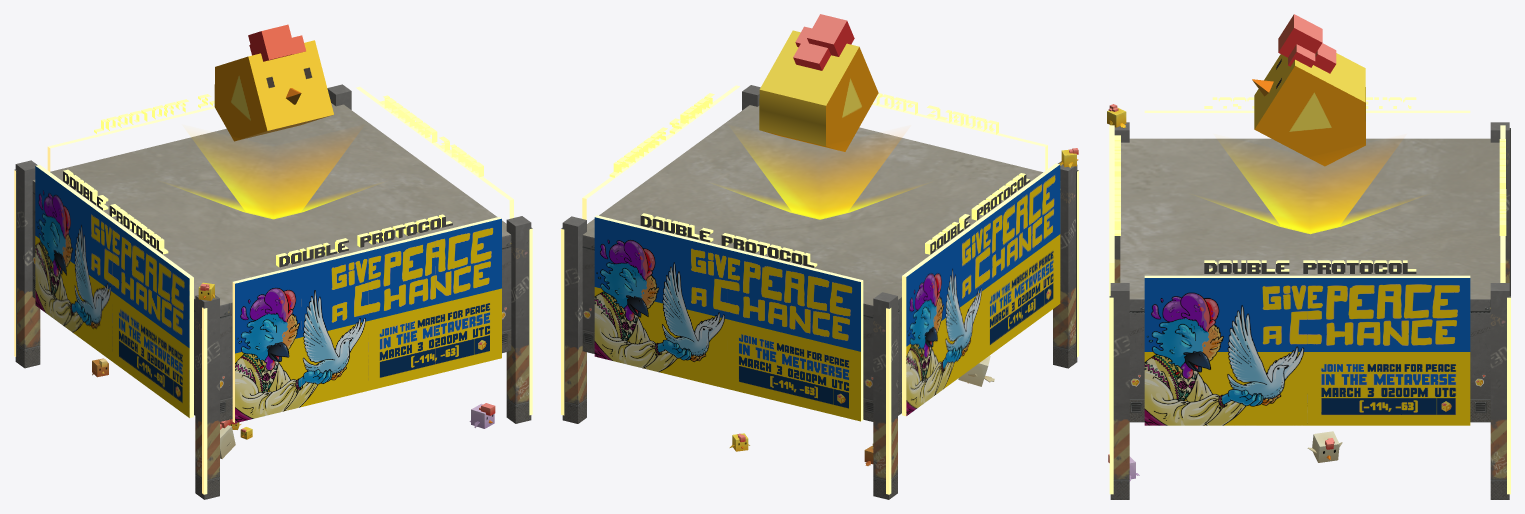
Rendered from billboardV0b.gltf.
3 views of the same model, side by side, from view 1: azimuth 30°, elevation 25°; view 2: azimuth 150°, elevation 25°; view 3: azimuth 270°, elevation 25° (orthographic). The views are drawn at different scales.
Parts seen in each view (by area): view 1: p_structure, p_b1_p9, p_b1_p1, p_body2 (7), p_spot1, p_column5, p_column6, p_column4, p_double1, p_double4, p_b1, p_double2 (+6 smaller); view 2: p_structure, p_b1_p11, p_b1_p1, p_body2 (7), p_spot1, p_column4, p_column3, p_column5, p_double3, p_double4, p_b1, p_double2 (+7 smaller); view 3: p_structure, p_b1_p10, p_body2 (7), p_spot1, p_column3, p_column6, p_double2, p_spot2, p_crest4 (7), p_column4, p_b2, p_b3 (+6 smaller).
Boxes of the visible parts, bbox=[...] form: p_structure: bbox=[32, 103, 511, 421]; p_b1_p9: bbox=[235, 218, 501, 423]; p_b1_p1: bbox=[35, 166, 189, 417]; p_body2 (7): bbox=[214, 40, 333, 141]; p_spot1: bbox=[194, 140, 352, 217]; p_column5: bbox=[195, 295, 219, 499]; p_column6: bbox=[506, 216, 532, 423]; p_column4: bbox=[14, 160, 40, 368]; p_double1: bbox=[276, 214, 452, 267]; p_double4: bbox=[63, 169, 168, 254]; p_b1: bbox=[36, 165, 193, 417]; p_double2: bbox=[379, 95, 483, 177]; p_structure: bbox=[582, 105, 1060, 421]; p_b1_p11: bbox=[594, 217, 860, 421]; p_b1_p1: bbox=[906, 164, 1060, 415]; p_body2 (7): bbox=[759, 30, 878, 151]; p_spot1: bbox=[740, 140, 899, 217]; p_column4: bbox=[873, 292, 897, 499]; p_column3: bbox=[561, 216, 586, 423]; p_column5: bbox=[1053, 161, 1078, 368]; p_double3: bbox=[640, 213, 817, 267]; p_double4: bbox=[925, 173, 1030, 254]; p_b1: bbox=[902, 163, 1059, 416]; p_double2: bbox=[609, 93, 714, 177]; p_structure: bbox=[1120, 138, 1500, 422]; p_b1_p10: bbox=[1144, 278, 1470, 425]; p_body2 (7): bbox=[1254, 53, 1365, 166]; p_spot1: bbox=[1226, 150, 1394, 232]; p_column3: bbox=[1490, 283, 1510, 499]; p_column6: bbox=[1109, 283, 1129, 499]; p_double2: bbox=[1204, 260, 1416, 273]; p_spot2: bbox=[1209, 200, 1410, 234]; p_crest4 (7): bbox=[1278, 14, 1322, 57]; p_column4: bbox=[1490, 122, 1510, 295]; p_b2: bbox=[1109, 125, 1114, 410]; p_b3: bbox=[1144, 275, 1470, 277].
Bounding box in the file's own units: 14.86 × 15.94 × 14.88.
18 materials, 15 textured.
